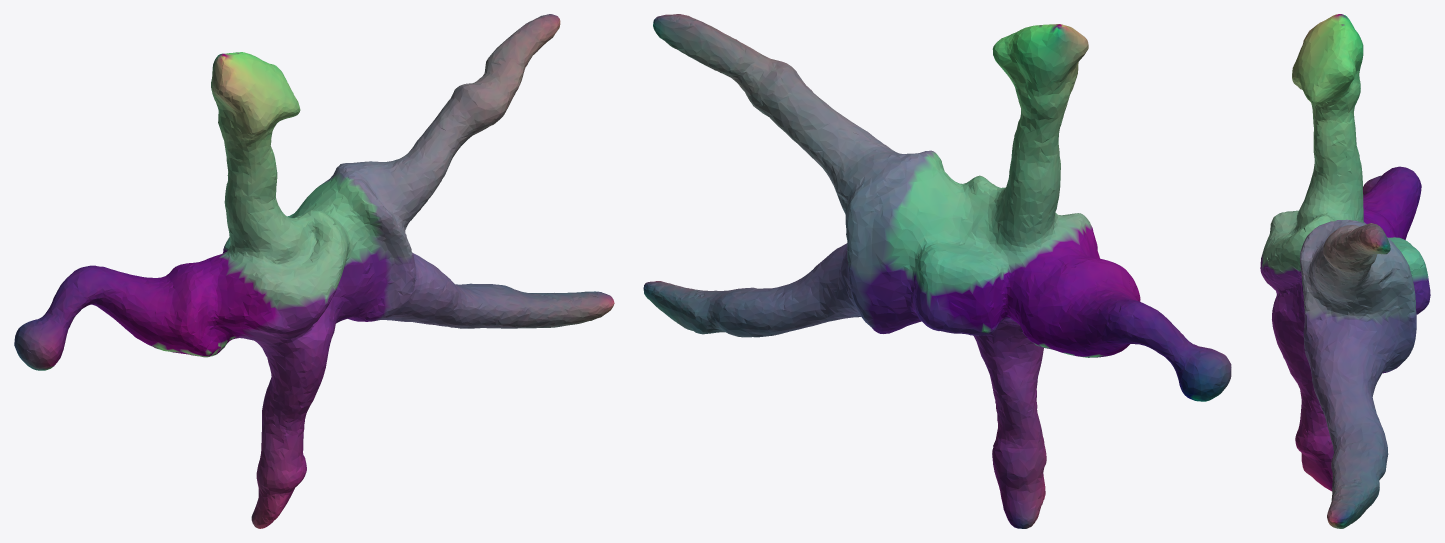
The model's file is santa-8.off.obj.
3 views of the same model, side by side, from view 1: azimuth 30°, elevation 25°; view 2: azimuth 150°, elevation 25°; view 3: azimuth 270°, elevation 25° (orthographic). The views are drawn at different scales.
Size of the model in its own units: 1.65 by 1.33 by 0.445.
